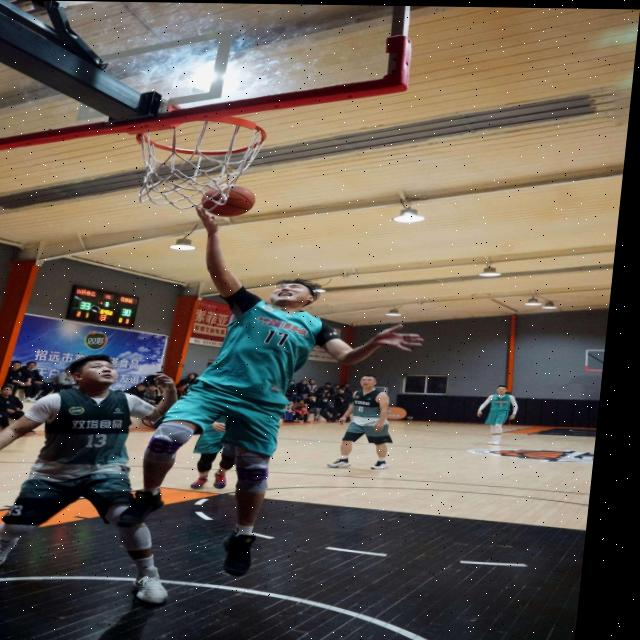basketball: (149, 183, 439, 582), (198, 183, 259, 218)
hoop: (125, 114, 269, 211)
